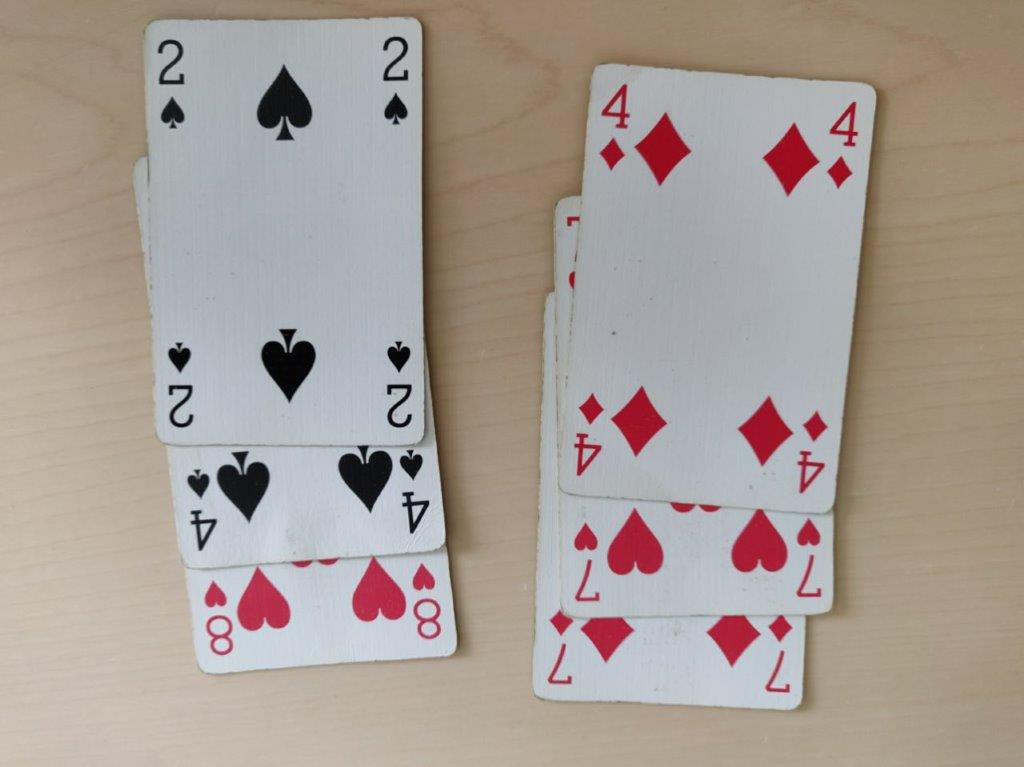2S: (152, 27, 418, 436)
4D: (572, 70, 864, 498)
4S: (178, 437, 432, 559)
7D: (535, 609, 809, 714)
7H: (566, 495, 836, 614)
8H: (185, 560, 466, 667)
